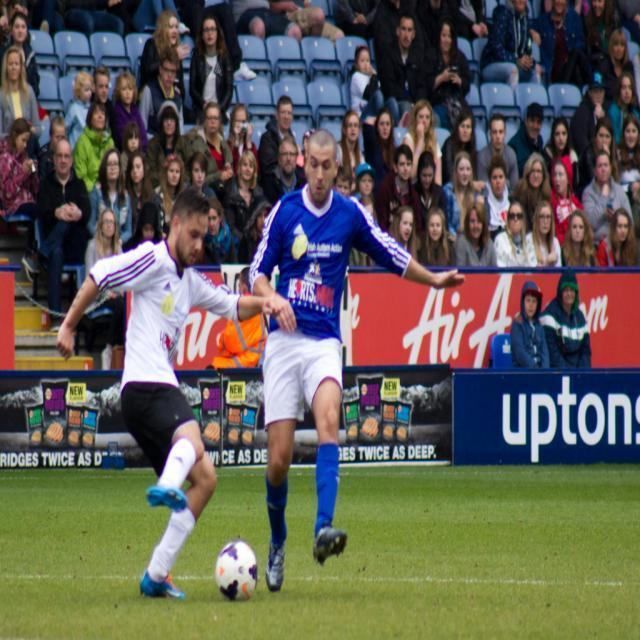football: (197, 535, 262, 602)
